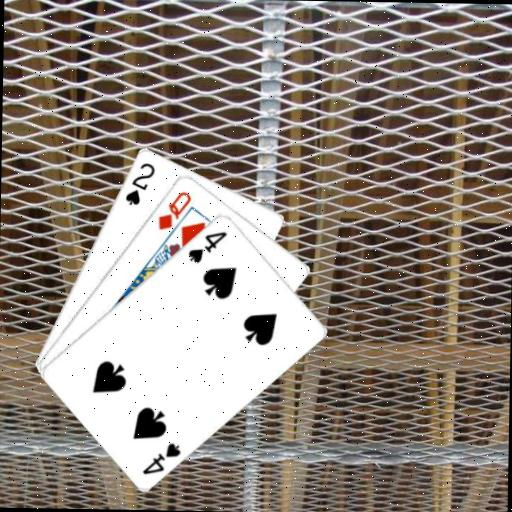2S: (122, 159, 157, 208)
4S: (185, 227, 229, 265), (139, 439, 183, 477)
QD: (155, 187, 193, 232)
